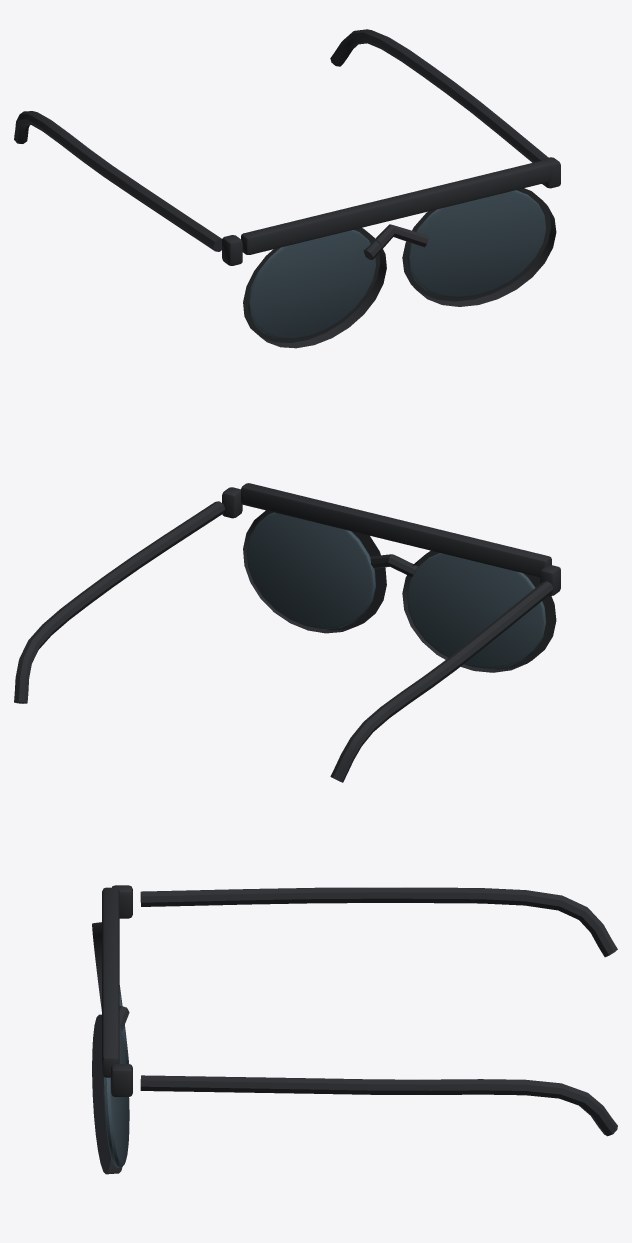
File: pf_sunglasses.glb
3 renders of one model, top to bottom at view 1: azimuth 30°, elevation 25°; view 2: azimuth 150°, elevation 25°; view 3: azimuth 270°, elevation 25°, orthographic. The views are drawn at different scales.
Parts seen in each view (by area): view 1: pf_sunglasses_body; view 2: pf_sunglasses_body; view 3: pf_sunglasses_body.
Part boxes in pixels (left/top/right/bottom): pf_sunglasses_body: left=14, top=29, right=560, bottom=348; pf_sunglasses_body: left=14, top=483, right=560, bottom=782; pf_sunglasses_body: left=92, top=885, right=617, bottom=1174.
Size of the model in its own units: 0.15 by 0.058 by 0.1902.
